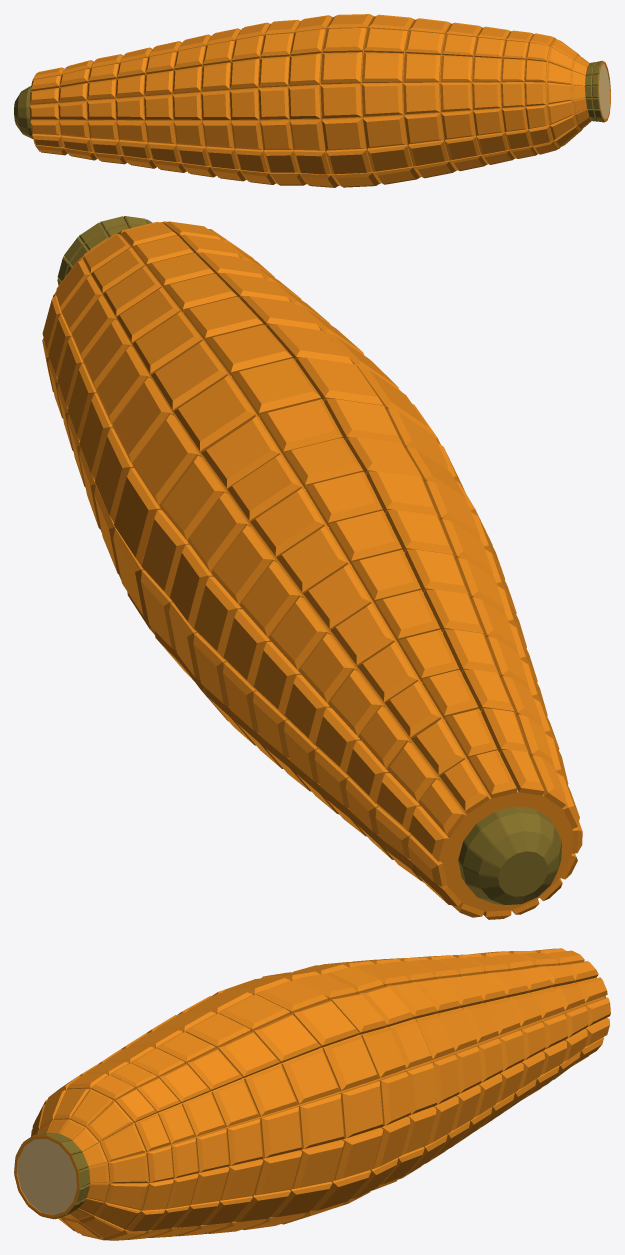
Rendered from Pannocchia.fbx.
3 views of the same model, one above another, from view 1: azimuth 30°, elevation 25°; view 2: azimuth 150°, elevation 25°; view 3: azimuth 270°, elevation 25° (orthographic). The views are drawn at different scales.
Parts seen in each view (by area): view 1: pannocchia 2; view 2: pannocchia 2; view 3: pannocchia 2.
Boxes of the visible parts, box(x1,y1,x2,y2) form: pannocchia 2: box(14, 14, 610, 187); pannocchia 2: box(42, 216, 582, 919); pannocchia 2: box(14, 948, 610, 1240).
Size of the model in its own units: 89.93 by 33.09 by 78.27.
